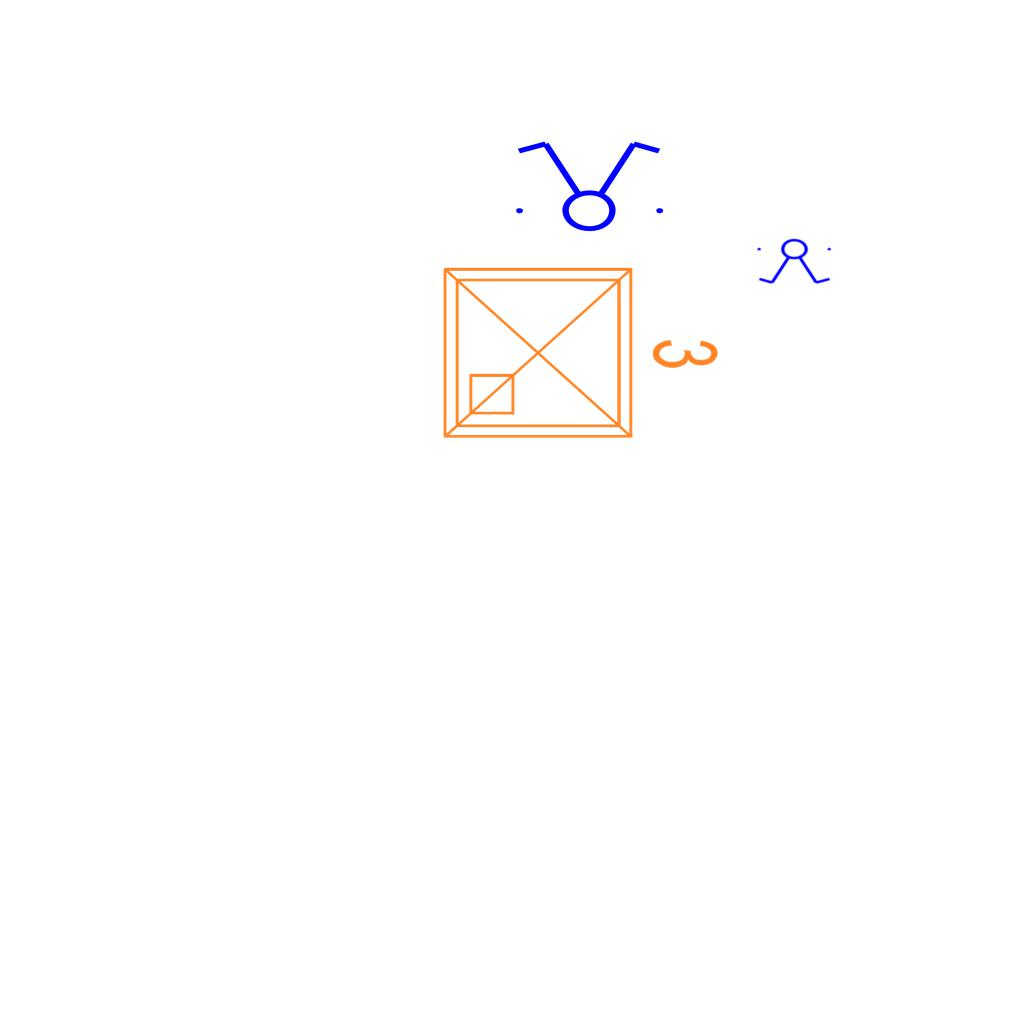Einbaudownlights_LED_Konferenzraeume: (429, 245, 729, 453)
Serienschalter: (504, 137, 672, 233), (753, 238, 837, 286)
